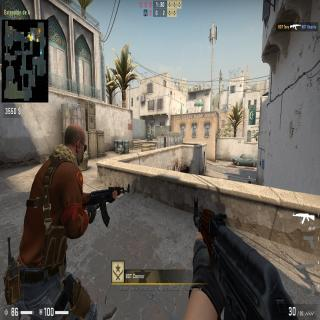T-Head: (66, 123, 86, 166), (248, 180, 252, 184), (162, 132, 165, 136)
